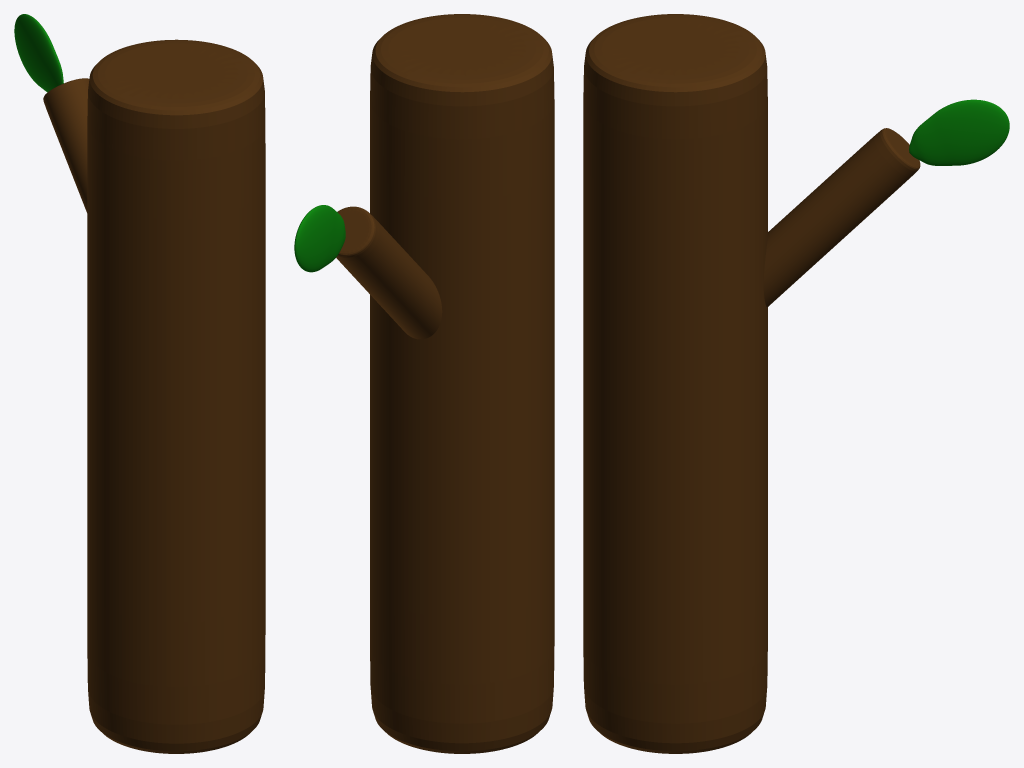
The model's file is Stick.fbx.
3 renders of one model, left to right at view 1: azimuth 30°, elevation 25°; view 2: azimuth 150°, elevation 25°; view 3: azimuth 270°, elevation 25°, orthographic. The views are drawn at different scales.
Parts seen in each view (by area): view 1: Cylinder, Cylinder.001, Sphere; view 2: Cylinder, Cylinder.001, Sphere; view 3: Cylinder, Cylinder.001, Sphere.
Part boxes in pixels (bbox=[...]): Cylinder: bbox=[87, 39, 265, 753]; Cylinder.001: bbox=[43, 78, 89, 212]; Sphere: bbox=[14, 14, 63, 92]; Cylinder: bbox=[370, 14, 554, 753]; Cylinder.001: bbox=[336, 206, 442, 339]; Sphere: bbox=[294, 205, 345, 272]; Cylinder: bbox=[583, 14, 767, 753]; Cylinder.001: bbox=[763, 128, 920, 307]; Sphere: bbox=[909, 99, 1009, 165].
Bounding box in the file's own units: 199 × 800 × 459.
